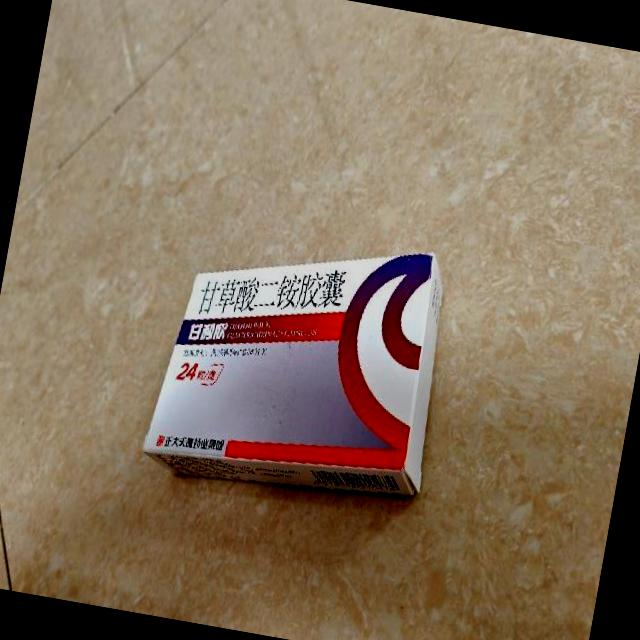box: (138, 209, 462, 518)
